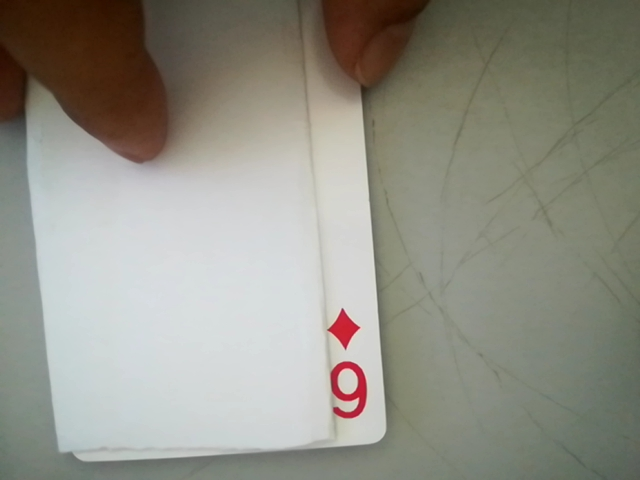fk 6: (314, 304, 381, 435)
